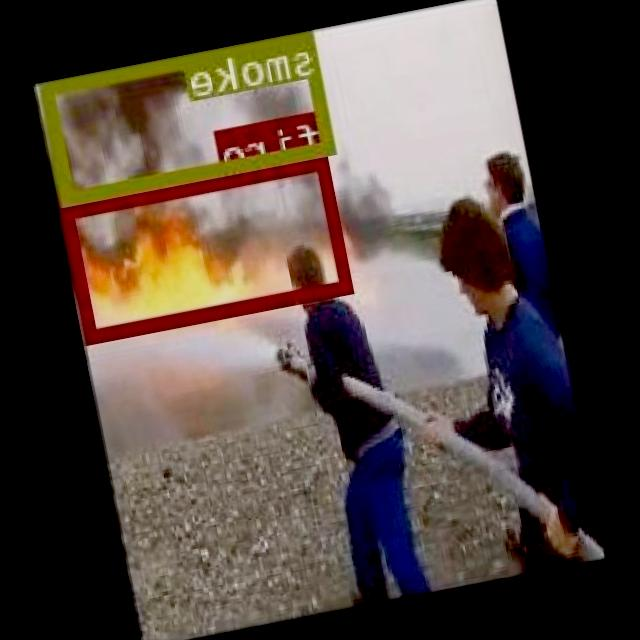fire: (62, 153, 356, 340)
smoke: (42, 28, 337, 202)
